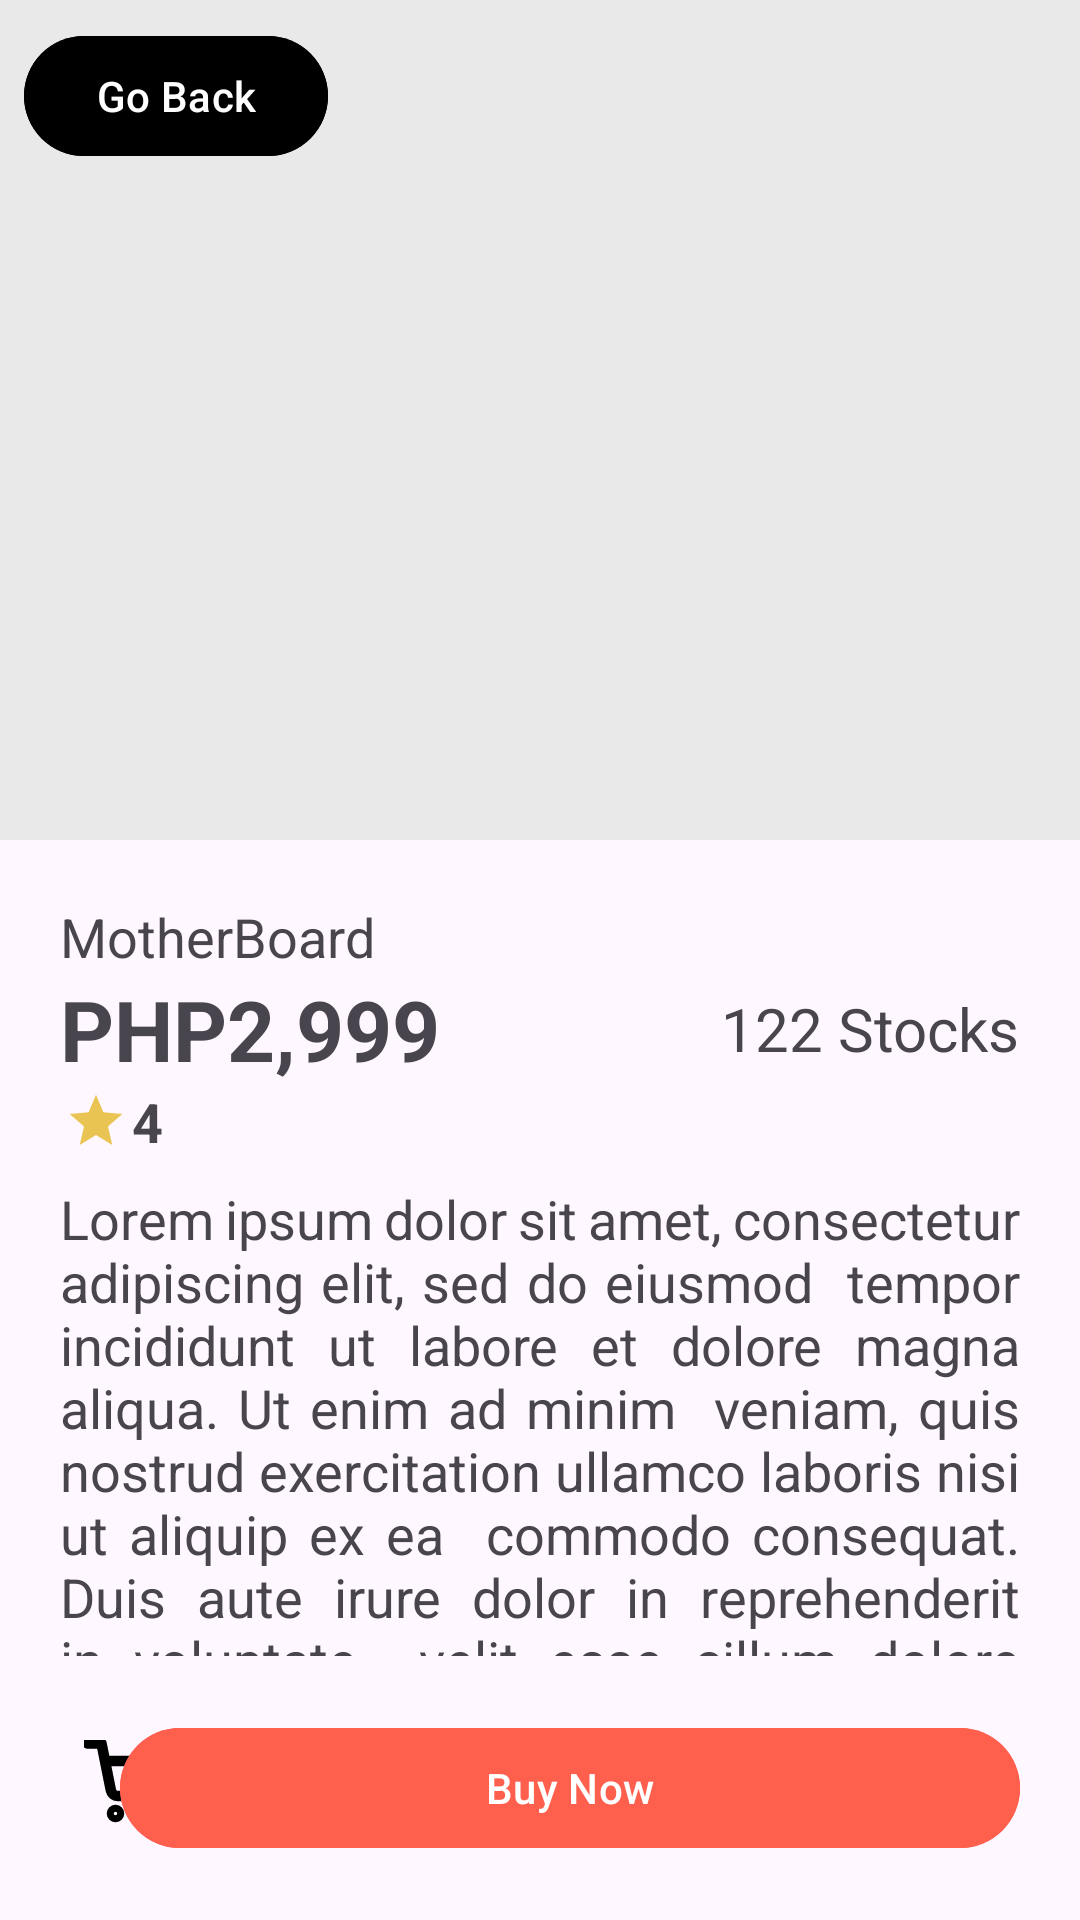

Icons on this 1080*1920 Android screen, each with the point to tap as [x,y]:
star: [96,1120]
